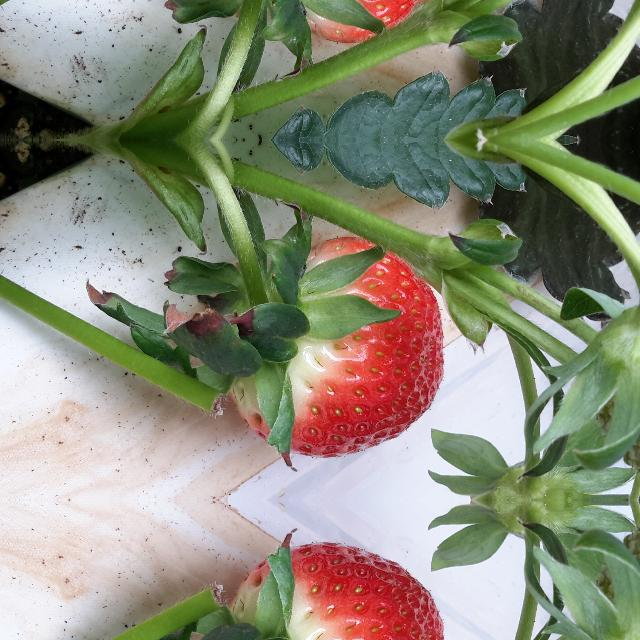Health_100: (232, 235, 444, 459), (232, 541, 444, 640), (232, 0, 444, 45)
